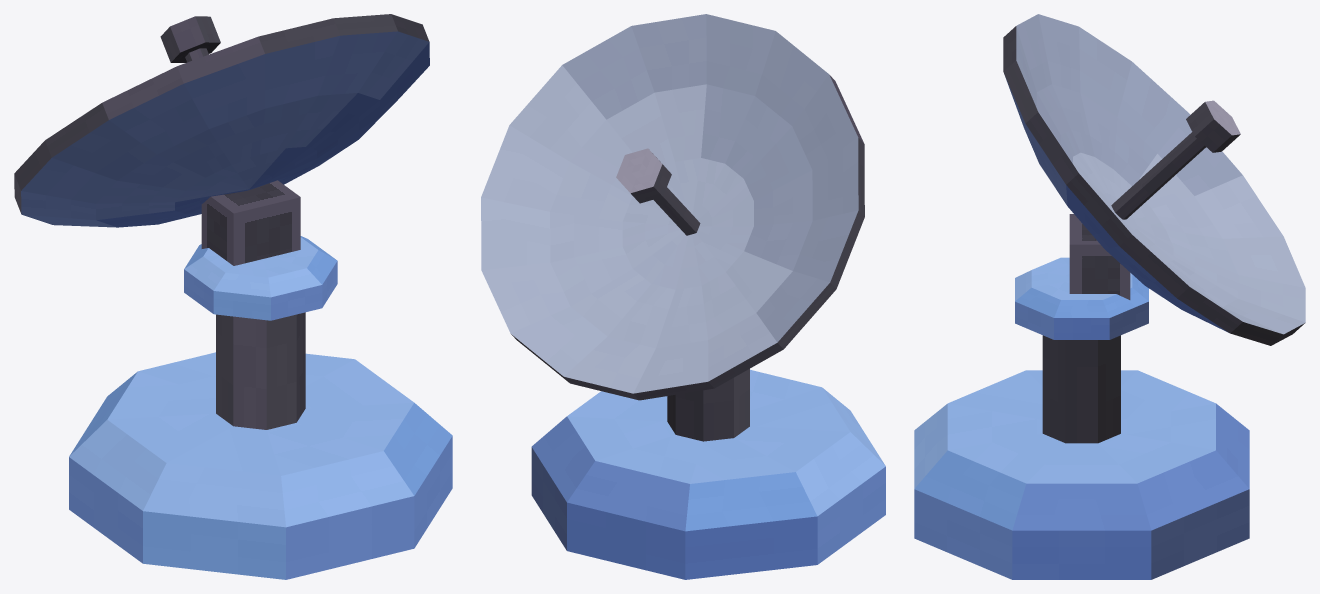
Rendered from radar.glb.
3 views of the same model, side by side, from view 1: azimuth 30°, elevation 25°; view 2: azimuth 150°, elevation 25°; view 3: azimuth 270°, elevation 25° (orthographic). The views are drawn at different scales.
Parts seen in each view (by area): view 1: radar_body, radar_head; view 2: radar_head, radar_body; view 3: radar_body, radar_head.
Part boxes in pixels (box(x1,y1,x2,y2)): radar_body: box(69, 312, 452, 579); radar_head: box(14, 14, 429, 320); radar_head: box(481, 14, 864, 400); radar_body: box(531, 369, 885, 579); radar_body: box(914, 335, 1249, 579); radar_head: box(1003, 14, 1305, 345).
Bounding box in the file's own units: 0.6767 × 0.85 × 0.6471.
Materials: 1 (1 with a texture image).
